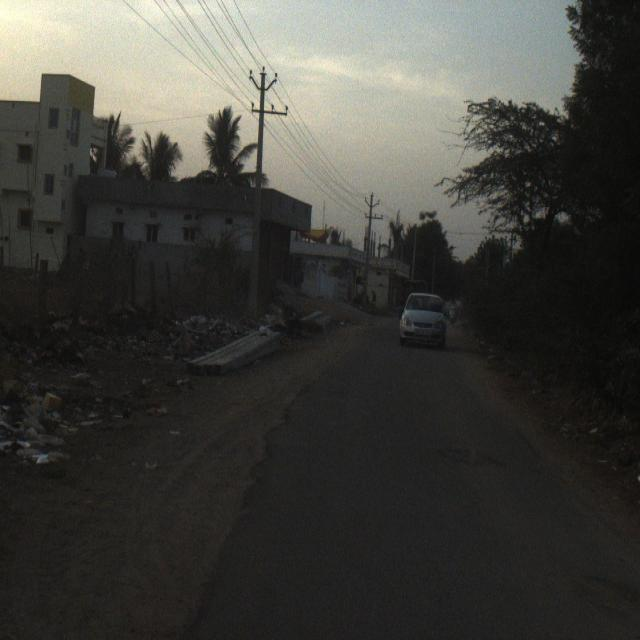Pothole: (540, 525, 640, 640), (408, 420, 524, 503)
